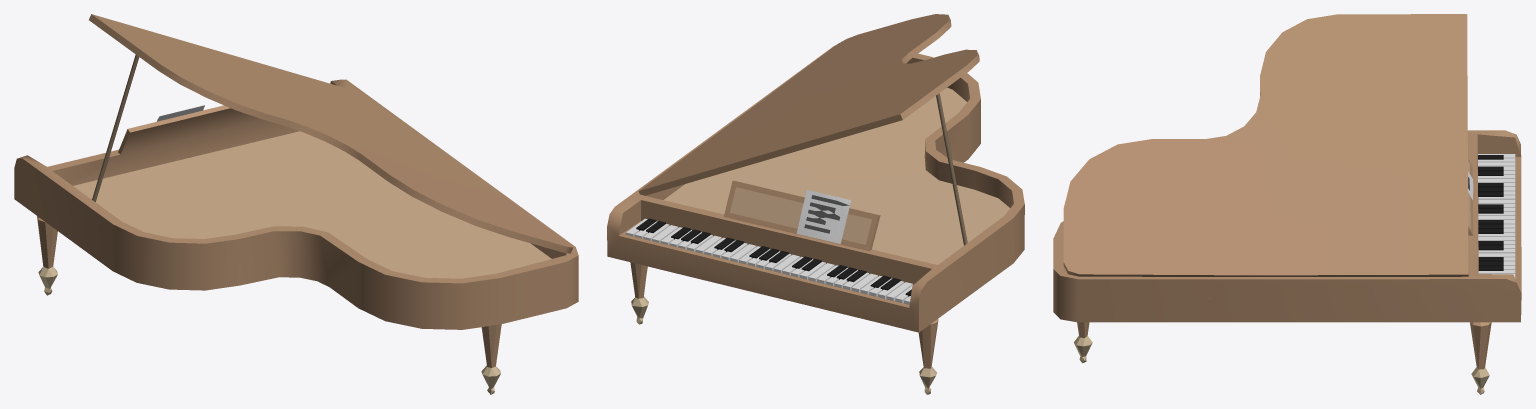
File: Piano-LowBRD_rootss105.fbx
3 views of the same model, side by side, from view 1: azimuth 30°, elevation 25°; view 2: azimuth 150°, elevation 25°; view 3: azimuth 270°, elevation 25° (orthographic). The views are drawn at different scales.
Parts seen in each view (by area): view 1: Piano_LowBRD_sh_6, Piano_LowBRD_sh_14, Piano_LowBRD_sh_15, Piano_LowBRD_sh_19, Piano_LowBRD_sh_17, Piano_LowBRD_sh_1, Piano_LowBRD_sh_9, Piano_LowBRD_sh_21, Piano_LowBRD_sh_4, Piano_LowBRD_sh_3, Piano_LowBRD_sh_31, Piano_LowBRD_sh_30 (+17 smaller); view 2: Piano_LowBRD_sh_15, Piano_LowBRD_sh_1, Piano_LowBRD_sh_19, Piano_LowBRD_sh_17, Piano_LowBRD_sh_14, Piano_LowBRD_sh_9, Piano_LowBRD_sh_12, Piano_LowBRD_sh_3, Piano_LowBRD_sh_42, Piano_LowBRD_sh_21, Piano_LowBRD_sh_30, Piano_LowBRD_sh_31 (+23 smaller); view 3: Piano_LowBRD_sh_42, Piano_LowBRD_sh_30, Piano_LowBRD_sh_31, Piano_LowBRD_sh_43, Piano_LowBRD_sh_12, Piano_LowBRD_sh_6, Piano_LowBRD_sh_38, Piano_LowBRD_sh_29, Piano_LowBRD_sh_36, Piano_LowBRD_sh_28, Piano_LowBRD_sh_32, Piano_LowBRD_sh_13 (+12 smaller).
Boxes of the visible parts, <box> form: Piano_LowBRD_sh_6: <box>430,205,578,394</box>; Piano_LowBRD_sh_14: <box>169,227,376,314</box>; Piano_LowBRD_sh_15: <box>153,105,337,181</box>; Piano_LowBRD_sh_19: <box>186,179,372,238</box>; Piano_LowBRD_sh_17: <box>89,108,214,238</box>; Piano_LowBRD_sh_1: <box>14,155,131,295</box>; Piano_LowBRD_sh_9: <box>41,168,178,286</box>; Piano_LowBRD_sh_21: <box>373,200,517,278</box>; Piano_LowBRD_sh_4: <box>355,259,444,329</box>; Piano_LowBRD_sh_3: <box>277,124,417,209</box>; Piano_LowBRD_sh_31: <box>437,202,573,253</box>; Piano_LowBRD_sh_30: <box>314,116,439,174</box>; Piano_LowBRD_sh_15: <box>645,180,839,288</box>; Piano_LowBRD_sh_1: <box>827,254,1009,394</box>; Piano_LowBRD_sh_19: <box>811,157,997,227</box>; Piano_LowBRD_sh_17: <box>797,196,983,267</box>; Piano_LowBRD_sh_14: <box>864,114,1001,206</box>; Piano_LowBRD_sh_9: <box>927,188,1024,268</box>; Piano_LowBRD_sh_12: <box>607,164,710,303</box>; Piano_LowBRD_sh_3: <box>674,154,818,207</box>; Piano_LowBRD_sh_42: <box>787,92,919,151</box>; Piano_LowBRD_sh_21: <box>773,86,963,152</box>; Piano_LowBRD_sh_30: <box>786,54,908,119</box>; Piano_LowBRD_sh_31: <box>785,14,950,82</box>; Piano_LowBRD_sh_42: <box>1357,27,1467,158</box>; Piano_LowBRD_sh_30: <box>1191,121,1343,218</box>; Piano_LowBRD_sh_31: <box>1063,156,1182,276</box>; Piano_LowBRD_sh_43: <box>1096,149,1213,276</box>; Piano_LowBRD_sh_12: <box>1373,259,1521,381</box>; Piano_LowBRD_sh_6: <box>1053,221,1186,362</box>; Piano_LowBRD_sh_38: <box>1271,189,1372,276</box>; Piano_LowBRD_sh_29: <box>1249,87,1392,150</box>; Piano_LowBRD_sh_36: <box>1199,216,1290,276</box>; Piano_LowBRD_sh_28: <box>1368,179,1432,276</box>; Piano_LowBRD_sh_32: <box>1260,32,1371,88</box>; Piano_LowBRD_sh_13: <box>1244,277,1372,322</box>.
Size of the model in its own units: 308 by 251 by 411.
2 materials, 1 textured.
